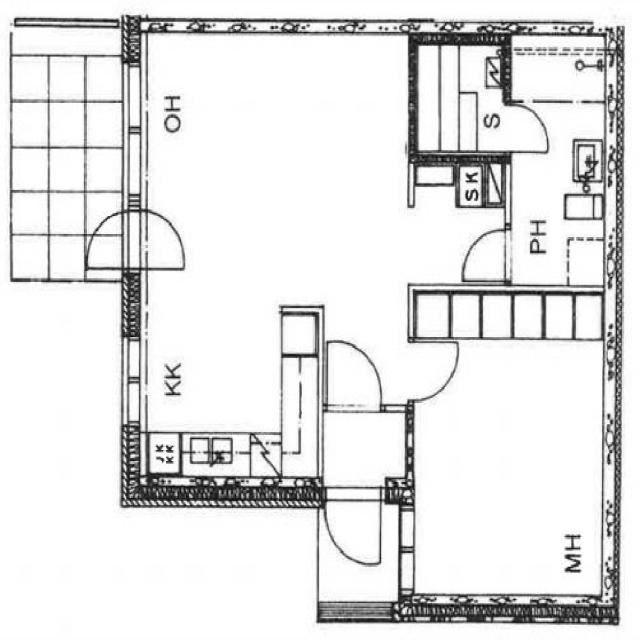door: (327, 478, 382, 573), (76, 212, 142, 268), (122, 212, 188, 268), (407, 343, 463, 401), (463, 231, 512, 281), (504, 104, 550, 150)
